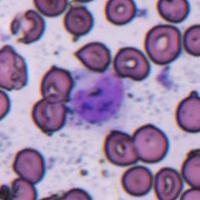M: (73, 72, 127, 125)
